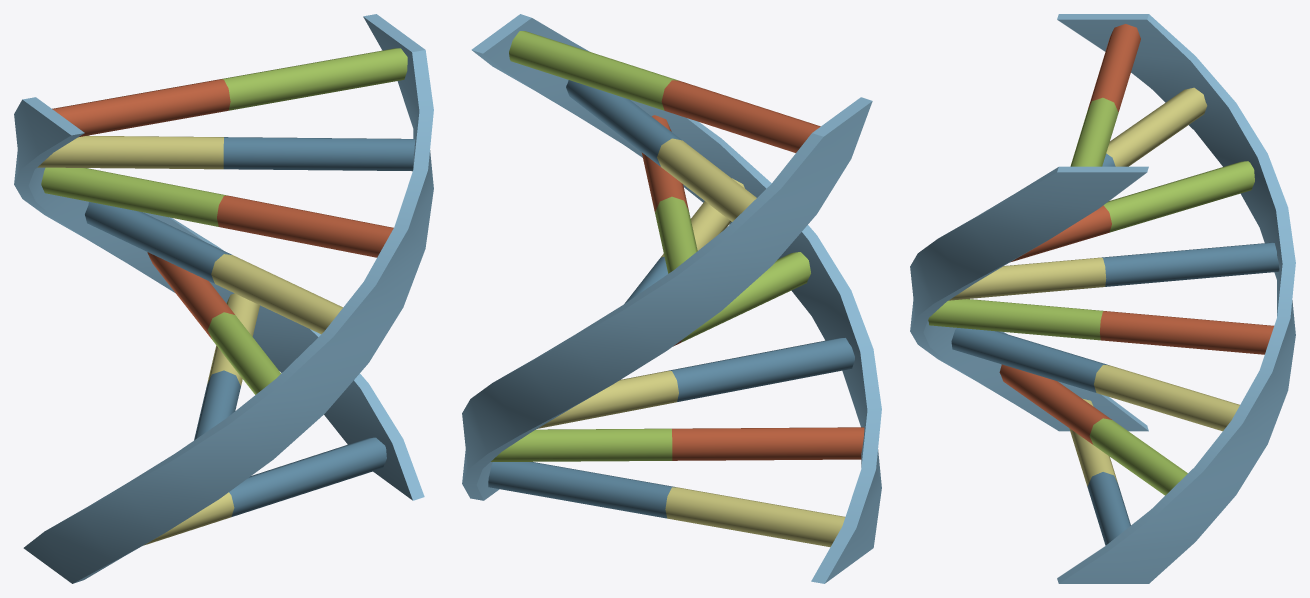
Rendered from DNA.fbx.
The picture shows the model from 3 angles, left to right: view 1: azimuth 30°, elevation 25°; view 2: azimuth 150°, elevation 25°; view 3: azimuth 270°, elevation 25°; orthographic projection. The views are drawn at different scales.
Parts seen in each view (by area): view 1: DNA; view 2: DNA; view 3: DNA.
Part boxes in pixels (x1=…): DNA: x1=14, y1=14, x2=433, y2=583; DNA: x1=462, y1=14, x2=881, y2=583; DNA: x1=910, y1=14, x2=1295, y2=583.
Size of the model in its own units: 1.31 by 1.54 by 1.31.
1 material, 1 textured.
